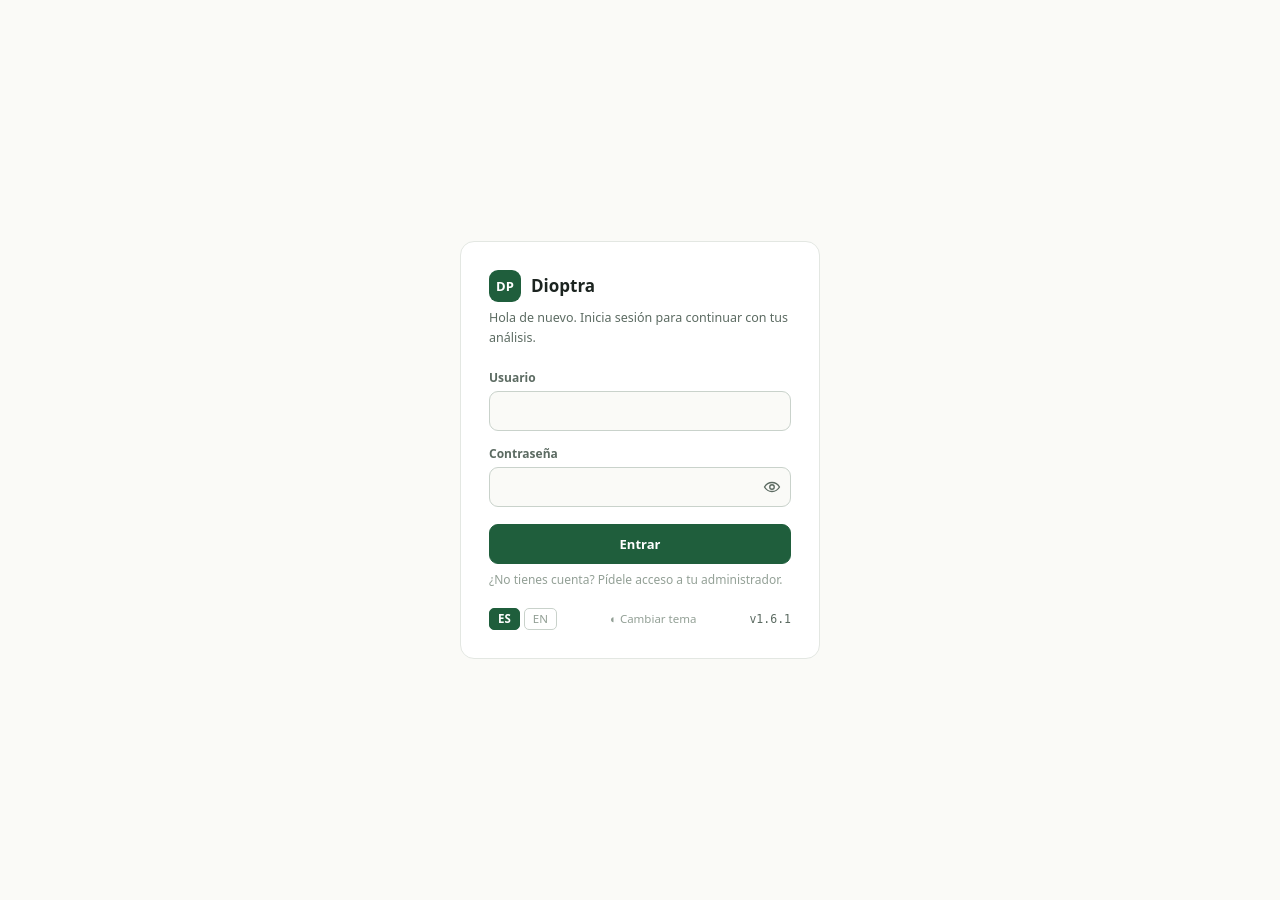
Test: login screen › signs in and lands on the home screen
Type "mmarin" into the field labelled "Usuario" at coordinates (640, 411), box [489, 391, 791, 431]
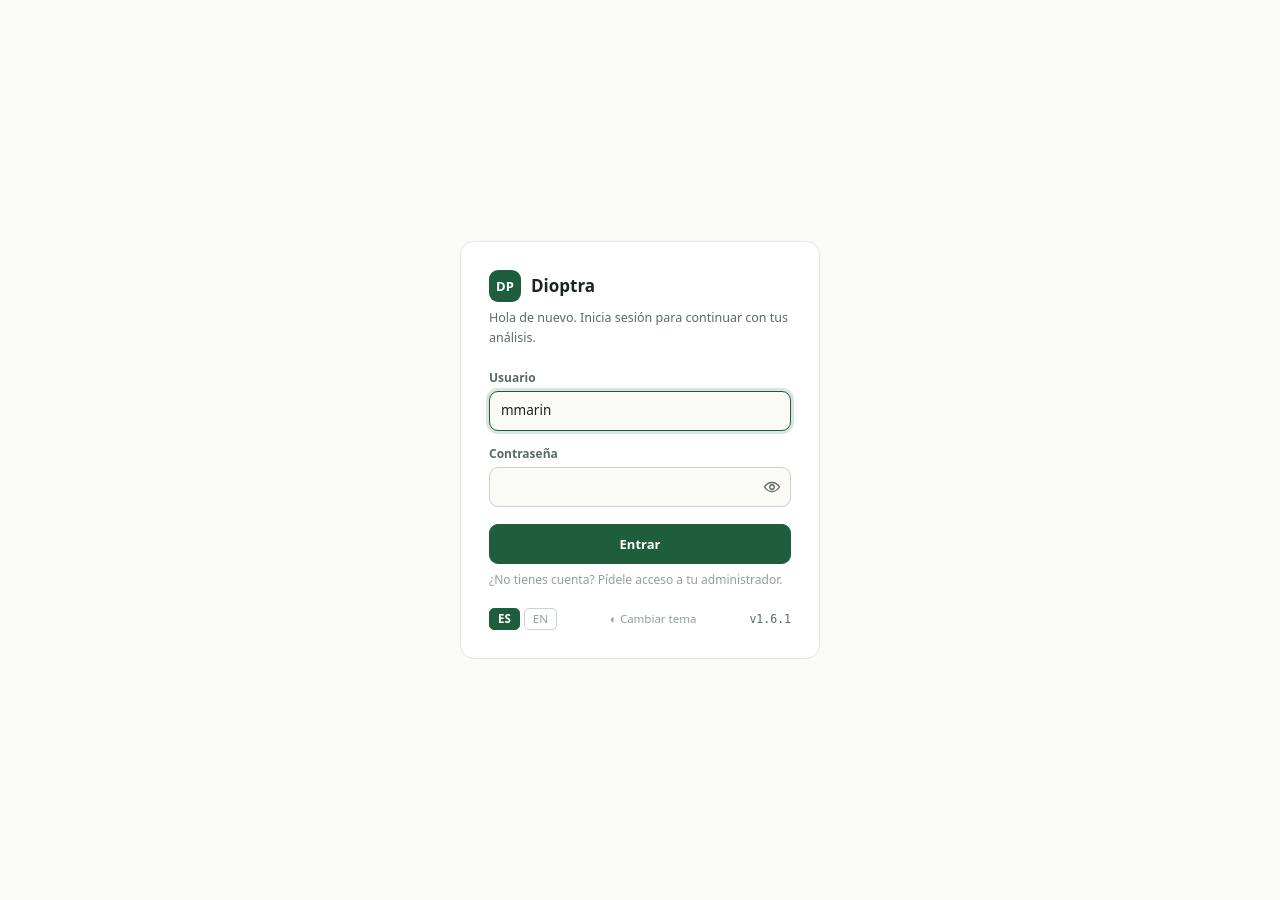
Type "correct-horse-battery-staple" into the password field labelled "Contraseña" at coordinates (640, 487), box [489, 467, 791, 507]
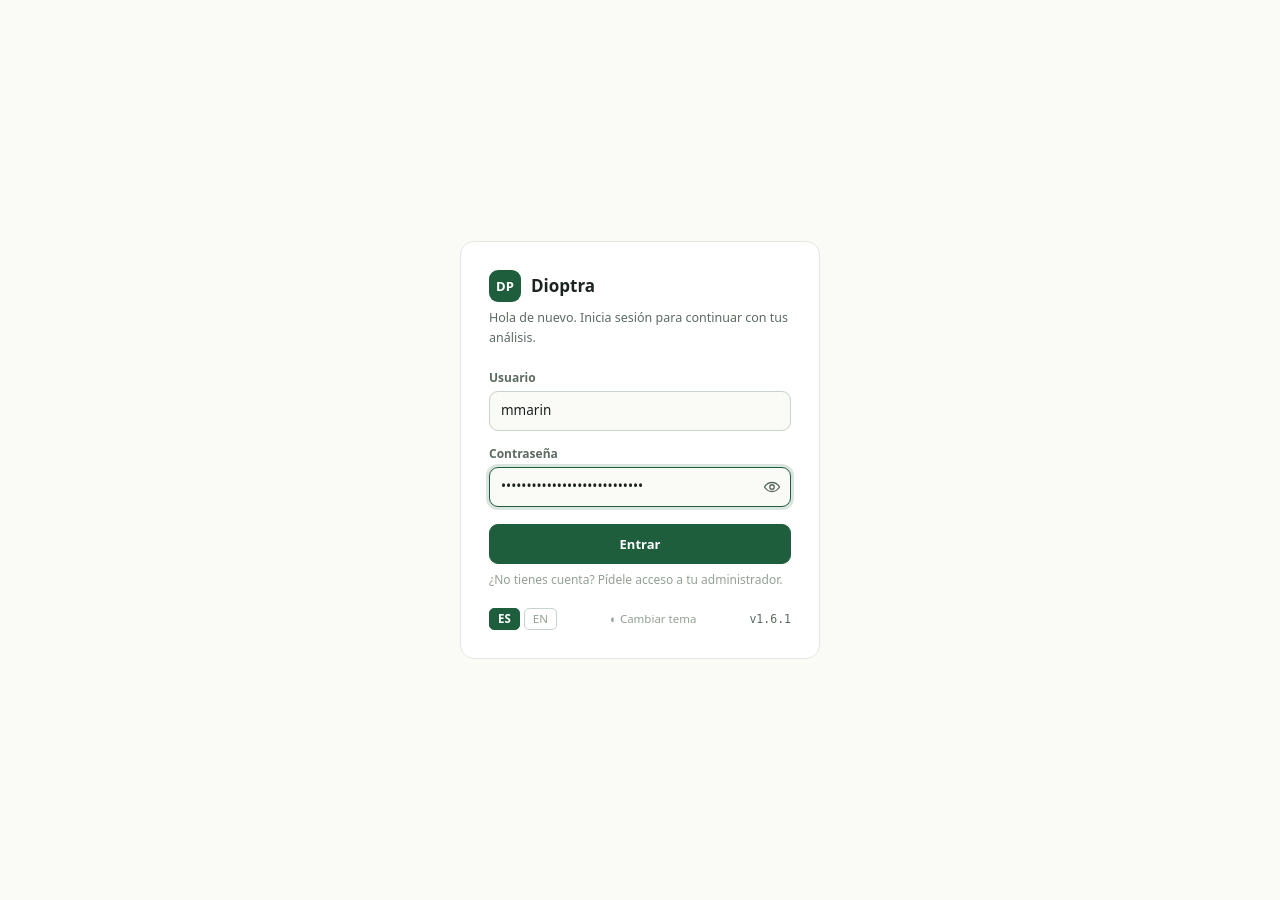
Click the button "Entrar" at coordinates (640, 544), box [489, 524, 791, 564]
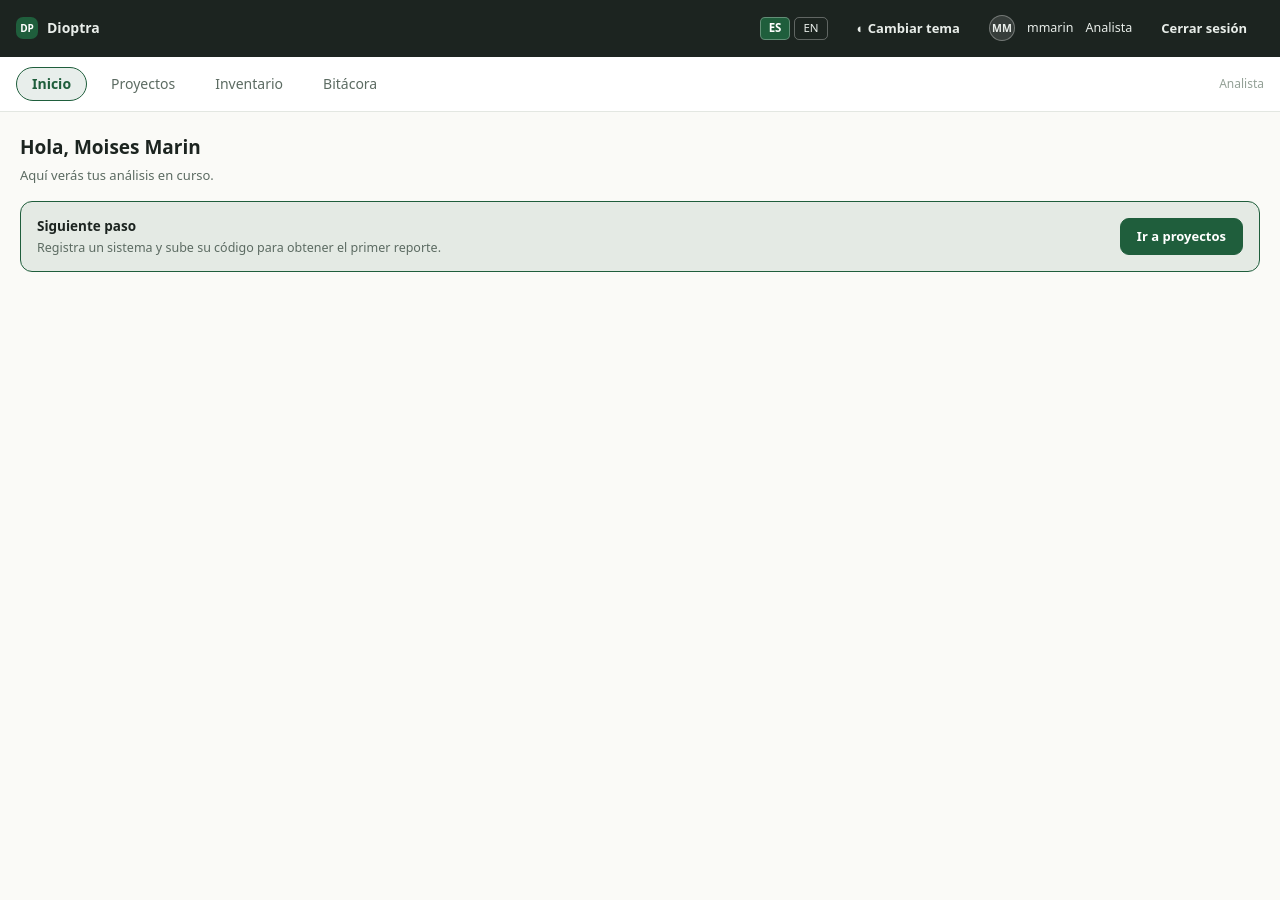
Now the text "mmarin" is shown, box [1027, 18, 1074, 38]
Now the text "Analista" next to "mmarin" is shown, box [1086, 19, 1132, 36]
